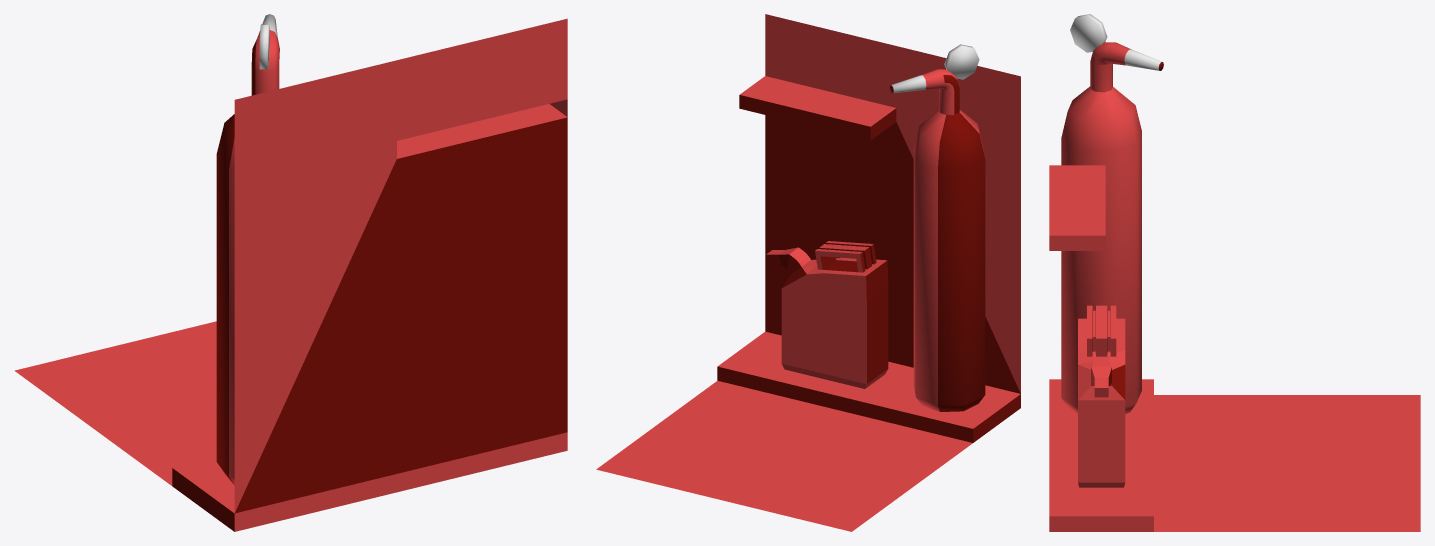
Rendered from Fire_T1_Side.fbx.
The picture shows the model from 3 angles, left to right: view 1: azimuth 30°, elevation 25°; view 2: azimuth 150°, elevation 25°; view 3: azimuth 270°, elevation 25°; orthographic projection. The views are drawn at different scales.
Parts seen in each view (by area): view 1: Fire_T1_Side; view 2: Fire_T1_Side; view 3: Fire_T1_Side.
Part boxes in pixels (left/top/right/bottom): Fire_T1_Side: left=14, top=14, right=567, bottom=531; Fire_T1_Side: left=596, top=14, right=1020, bottom=531; Fire_T1_Side: left=1049, top=14, right=1420, bottom=531.
Bounding box in the file's own units: 0.9677 × 1.11 × 1.32.
